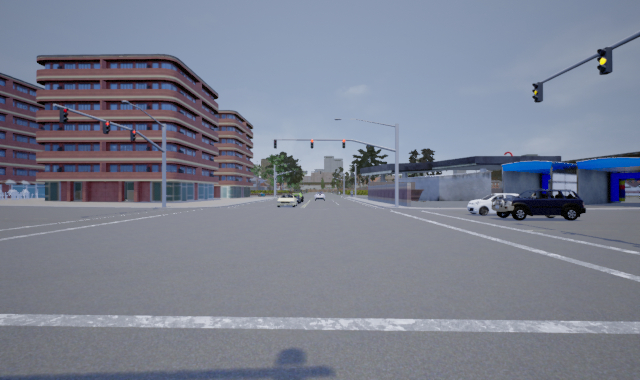traffic_light: (596, 45, 612, 76), (530, 79, 544, 104), (58, 106, 69, 126), (102, 119, 111, 135), (130, 127, 138, 142), (341, 138, 347, 150), (310, 138, 315, 151)
vehicle: (490, 188, 585, 221), (466, 193, 530, 216), (276, 193, 298, 209), (315, 194, 326, 202)
